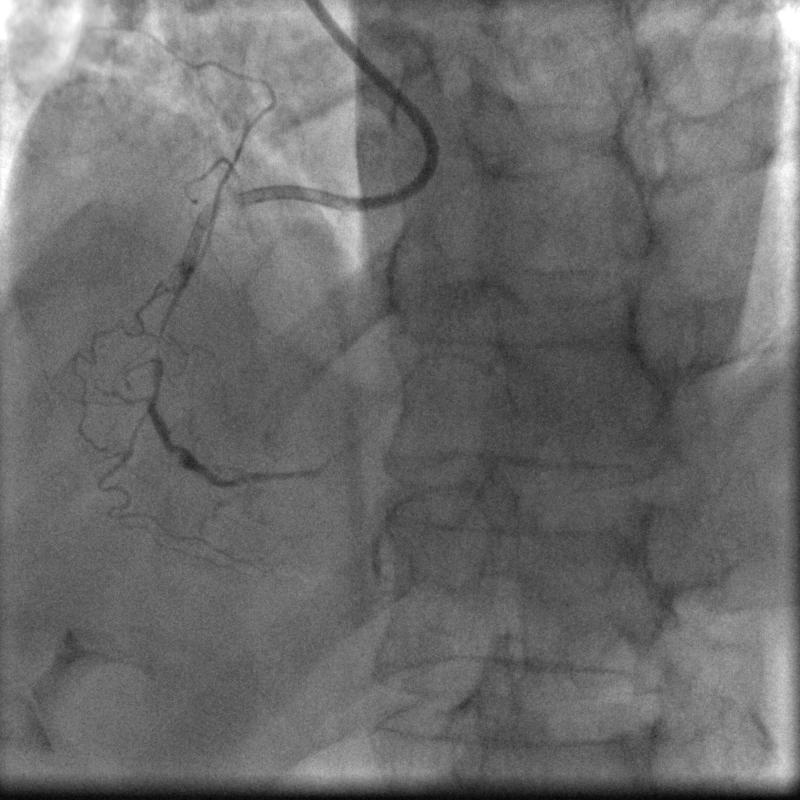Stenosis: (146, 265, 200, 372)
